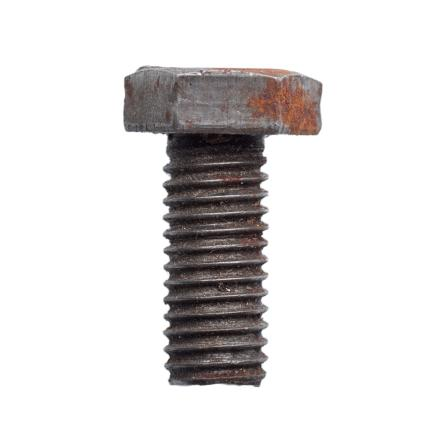besi_tidak_karat: (125, 68, 261, 382)
karat: (245, 78, 318, 136), (221, 68, 296, 78)
